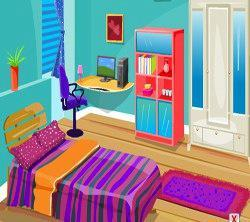chair: (53, 65, 88, 140)
pottedplant: (3, 46, 25, 94)
tvmonitor: (93, 53, 116, 82)
